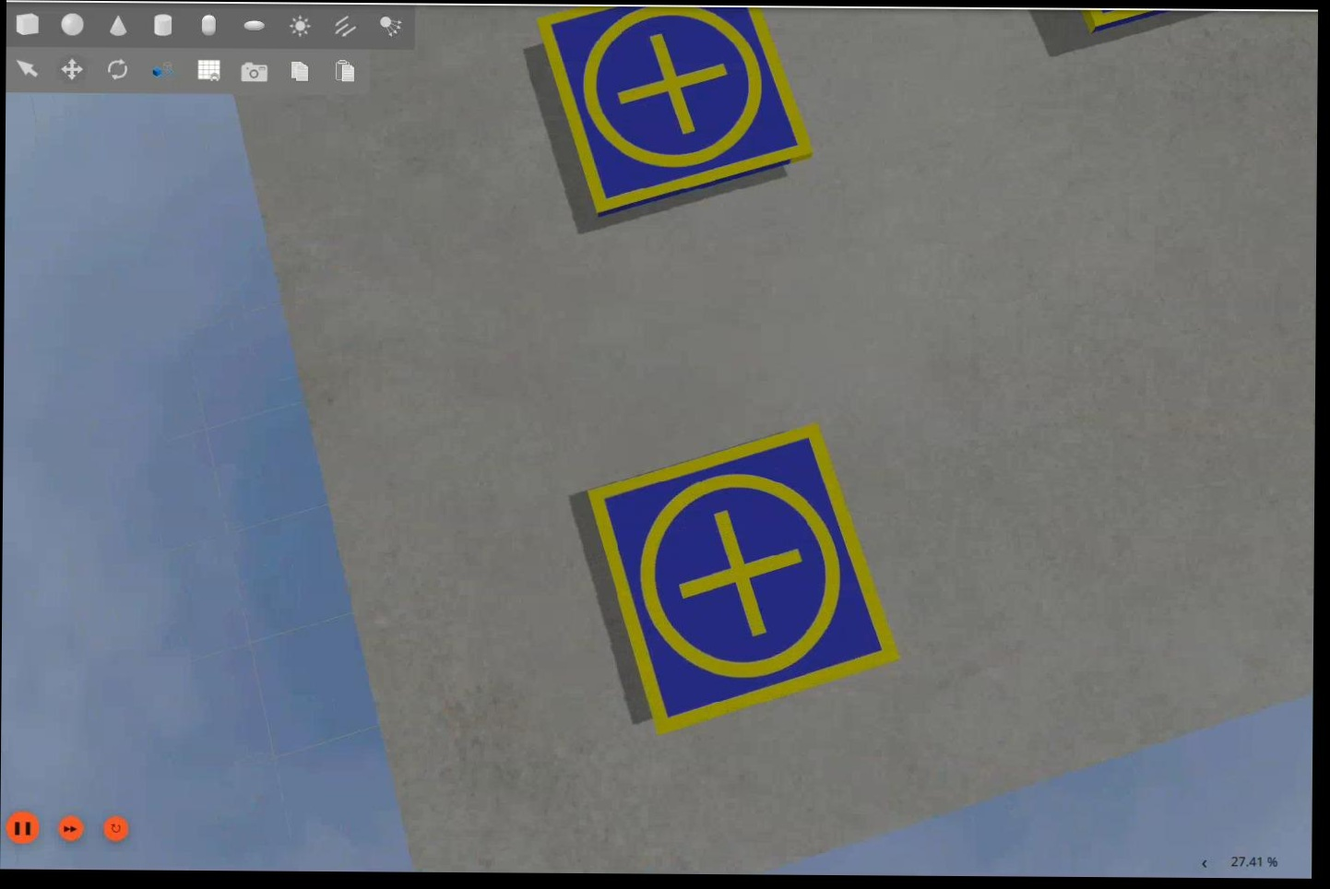small_base: (584, 423, 904, 736), (537, 4, 817, 220)
